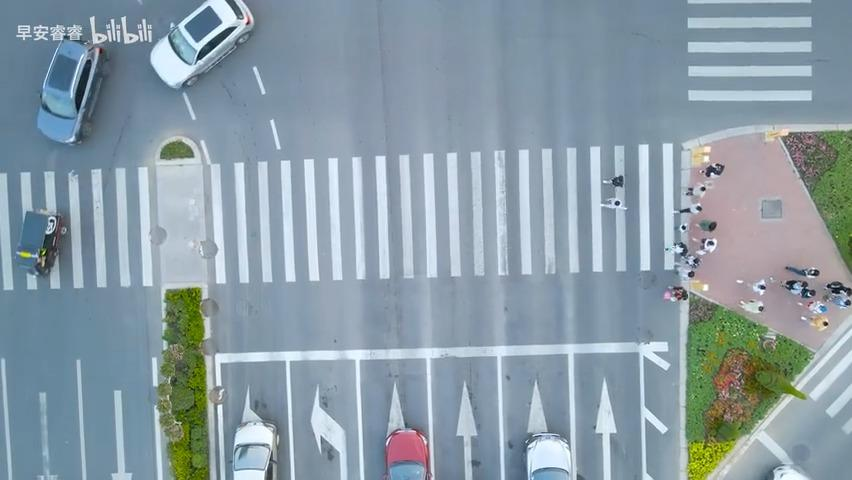Civilian: (14, 208, 67, 276), (592, 190, 634, 220), (737, 292, 768, 328), (672, 254, 705, 282), (596, 169, 633, 190), (666, 219, 702, 239), (673, 200, 703, 224), (742, 273, 770, 297), (780, 279, 815, 298), (683, 179, 710, 202), (664, 236, 687, 260), (785, 265, 819, 278), (697, 235, 720, 254), (699, 162, 725, 177), (663, 285, 687, 301), (808, 314, 828, 331)
